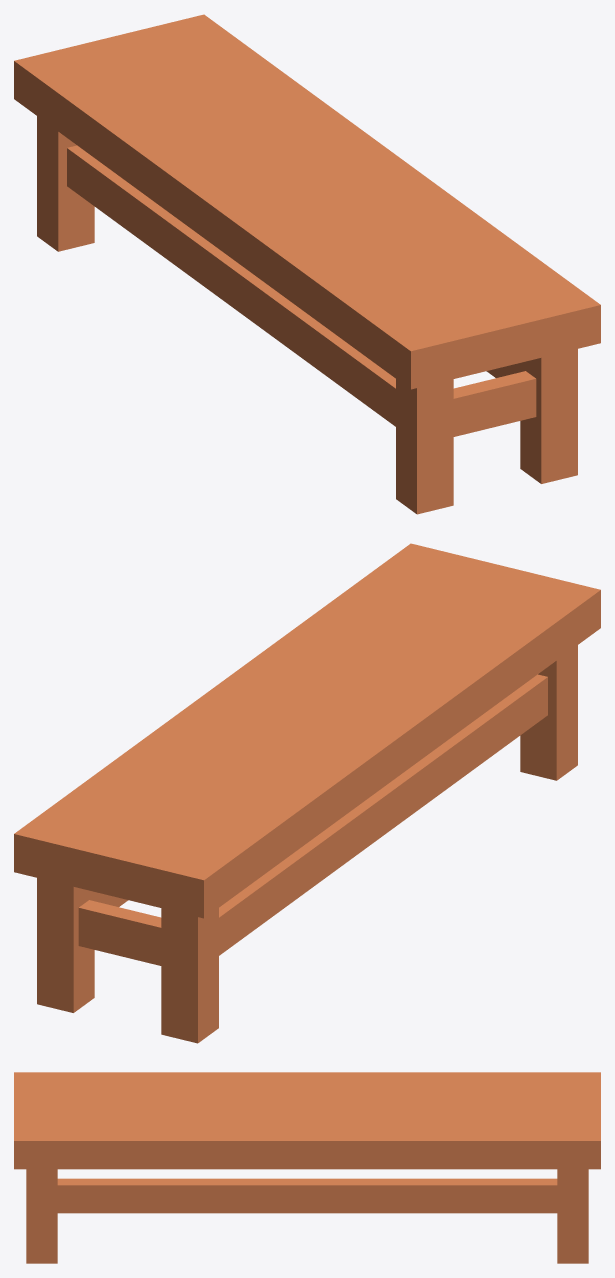
Rendered from stallBench.obj.
The picture shows the model from 3 angles, top to bottom: view 1: azimuth 30°, elevation 25°; view 2: azimuth 150°, elevation 25°; view 3: azimuth 270°, elevation 25°; orthographic projection. The views are drawn at different scales.
Visible parts, largest first — view 1: stallBench; view 2: stallBench; view 3: stallBench.
Boxes of the visible parts, left/top/right/bottom form: stallBench: left=14, top=14, right=600, bottom=514; stallBench: left=14, top=543, right=600, bottom=1043; stallBench: left=14, top=1072, right=600, bottom=1263.
Bounding box in the file's own units: 0.26 × 0.226 × 0.94.
